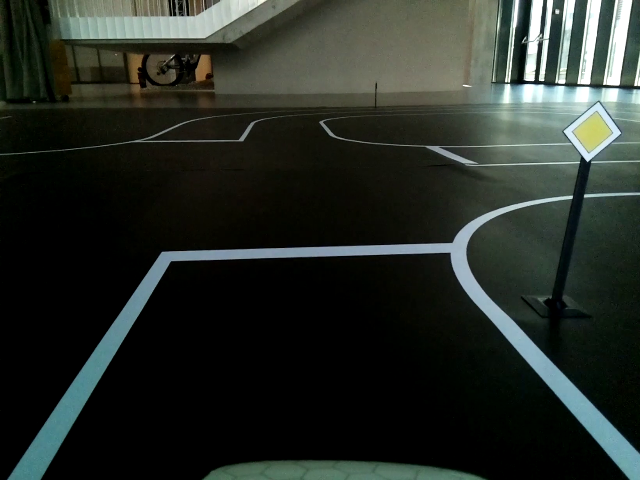priority: (561, 104, 623, 159)
